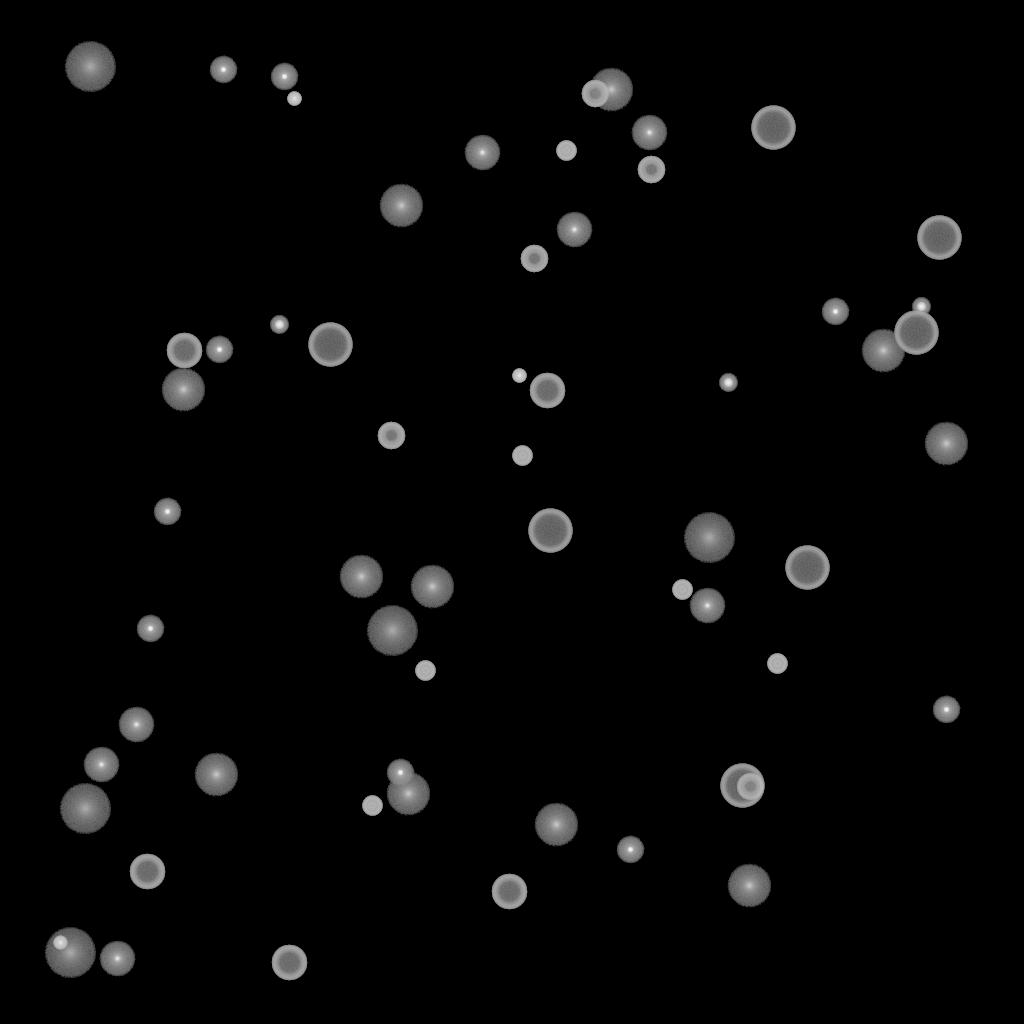depth:-10: (386, 759, 414, 787), (153, 498, 181, 526), (205, 336, 233, 364), (136, 615, 164, 643), (821, 298, 849, 326), (932, 696, 960, 724), (270, 63, 298, 91), (209, 56, 237, 84), (616, 836, 644, 864)
depth:-20: (912, 298, 930, 316), (719, 374, 737, 392), (270, 316, 288, 334)
depth:-30: (53, 936, 67, 950), (512, 369, 526, 383), (287, 92, 301, 106)
depth:-40: (767, 654, 787, 674), (362, 796, 382, 816), (672, 580, 692, 600), (556, 141, 576, 161), (415, 661, 435, 681), (512, 446, 532, 466)
depth:-50: (520, 245, 548, 273), (377, 422, 405, 450), (581, 80, 609, 108), (736, 773, 764, 801), (637, 156, 665, 184)
depth:-60: (166, 333, 202, 369), (271, 945, 307, 981), (529, 373, 565, 409), (129, 854, 165, 890), (491, 874, 527, 910)
depth:-70: (528, 509, 572, 553), (751, 106, 795, 150), (894, 311, 938, 355), (785, 546, 829, 590), (308, 323, 352, 367), (720, 764, 764, 808), (917, 216, 961, 260)
depth:0: (99, 941, 135, 977), (118, 707, 154, 743), (689, 588, 725, 624), (631, 115, 667, 151), (556, 212, 592, 248), (83, 747, 119, 783), (464, 135, 500, 171)
depth:10: (924, 422, 968, 466), (534, 803, 578, 847), (339, 555, 383, 599), (410, 565, 454, 609), (386, 772, 430, 816), (589, 68, 633, 112), (194, 753, 238, 797), (861, 329, 905, 373), (379, 184, 423, 228), (161, 368, 205, 412), (727, 864, 771, 908)
depth:20: (59, 784, 111, 834), (366, 606, 418, 656), (44, 928, 96, 978), (683, 513, 735, 563), (64, 42, 116, 92)
